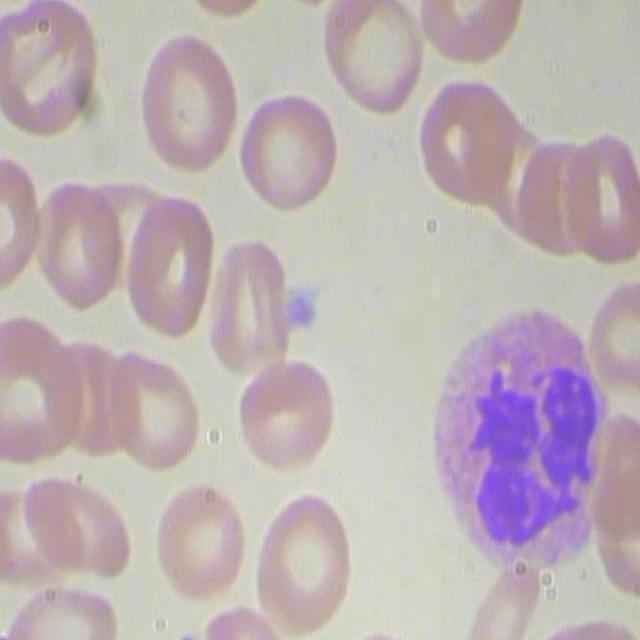Platelets: (283, 278, 318, 334)
RBC: (133, 22, 248, 182), (254, 489, 355, 640), (121, 195, 225, 337), (238, 89, 347, 223), (418, 69, 520, 212), (2, 2, 105, 142), (230, 357, 344, 483), (319, 1, 437, 119), (101, 344, 204, 473), (148, 480, 254, 604), (17, 473, 132, 587), (27, 179, 122, 313), (555, 128, 639, 273), (211, 238, 295, 378)
WBC: (417, 303, 617, 586)
